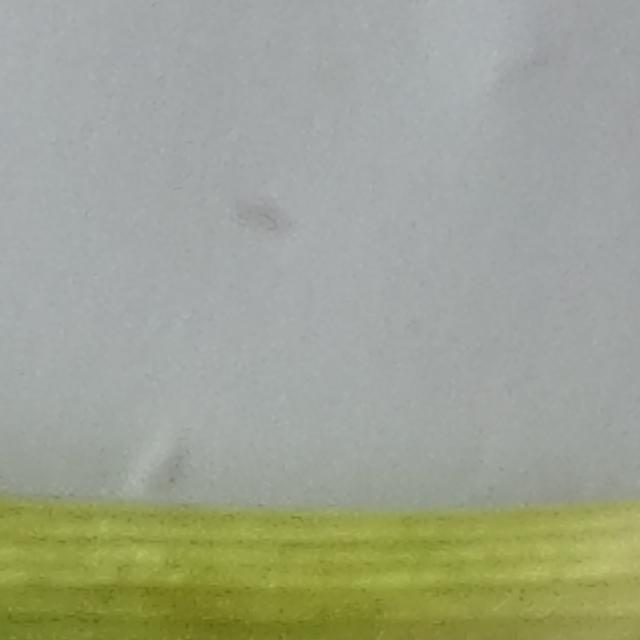green_onion: (0, 497, 640, 640)
